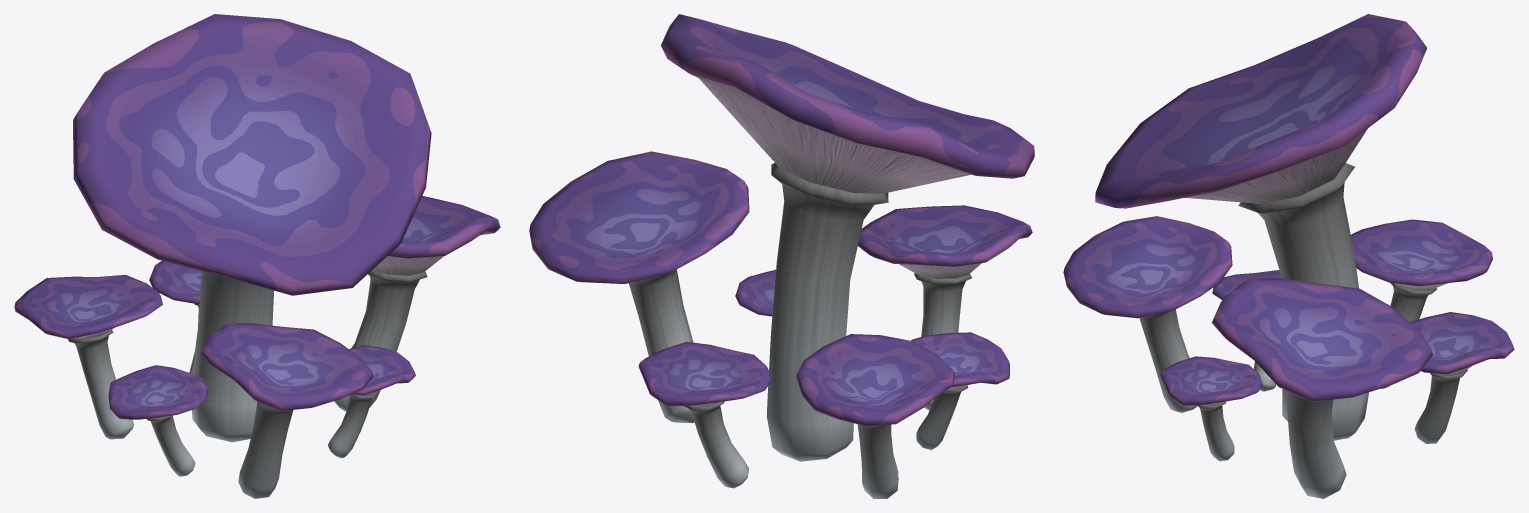
Rendered from ENV1410017.FBX.
3 renders of one model, left to right at view 1: azimuth 30°, elevation 25°; view 2: azimuth 150°, elevation 25°; view 3: azimuth 270°, elevation 25°, orthographic. The views are drawn at different scales.
Visible parts, largest first — view 1: smENV1410017; view 2: smENV1410017; view 3: smENV1410017.
Part boxes in pixels (x1=…): smENV1410017: x1=14, y1=14, x2=500, y2=498; smENV1410017: x1=529, y1=14, x2=1034, y2=498; smENV1410017: x1=1063, y1=14, x2=1514, y2=498.
Bounding box in the file's own units: 29.04 × 25.9 × 26.44.
1 material, 1 textured.
